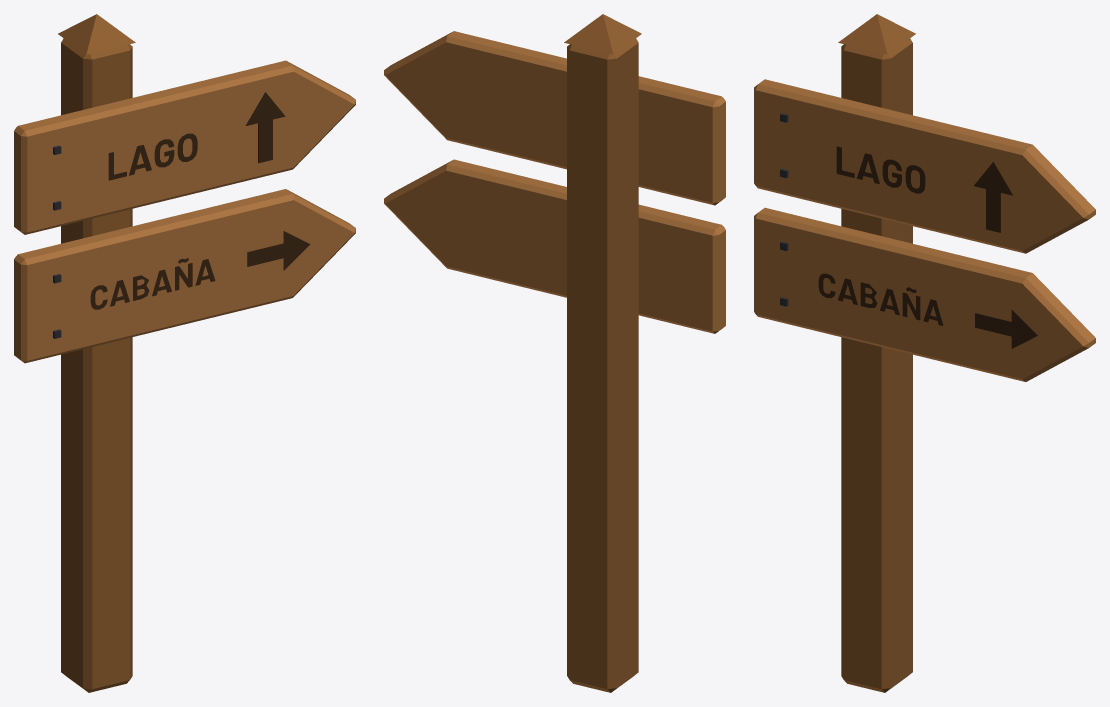
The model's file is Prop_SignpostLake.fbx.
The picture shows the model from 3 angles, left to right: view 1: azimuth 30°, elevation 25°; view 2: azimuth 150°, elevation 25°; view 3: azimuth 330°, elevation 25°; orthographic projection.
Visible parts, largest first — view 1: Prop_SignpostLake; view 2: Prop_SignpostLake; view 3: Prop_SignpostLake.
Boxes of the visible parts, box(x1,y1,x2,y2) form: Prop_SignpostLake: box(14, 14, 355, 692); Prop_SignpostLake: box(384, 14, 725, 692); Prop_SignpostLake: box(754, 14, 1095, 692).
Size of the model in its own units: 1.01 by 1.92 by 0.218.
